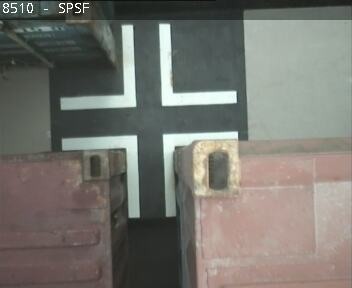groundmarker_1: (58, 25, 235, 112), (62, 132, 239, 218)
